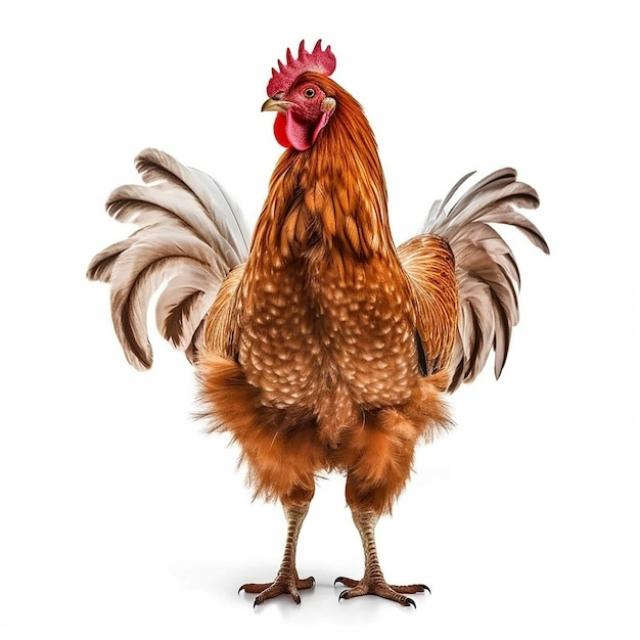Chicken: (87, 37, 552, 611)
